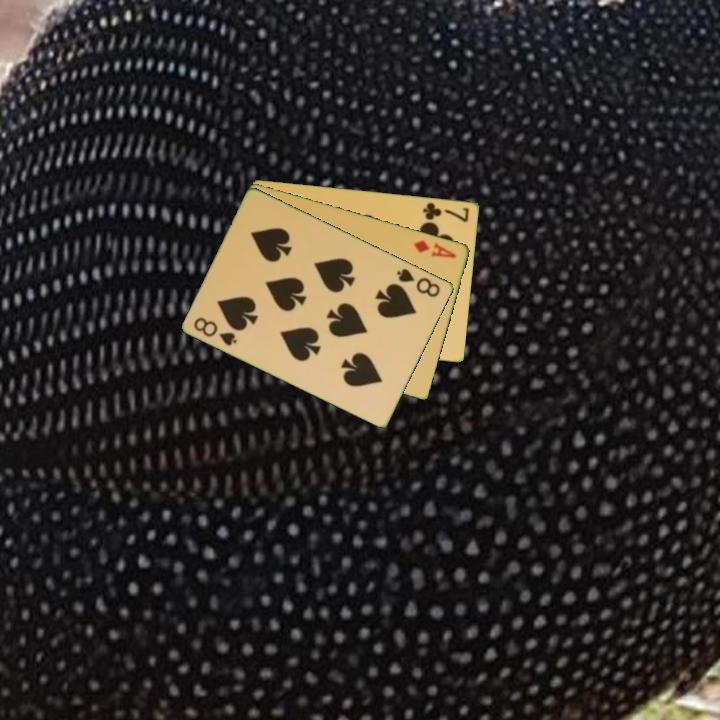7c: (420, 198, 472, 225)
8s: (190, 313, 240, 349), (394, 265, 443, 300)
Ad: (410, 236, 460, 261)
